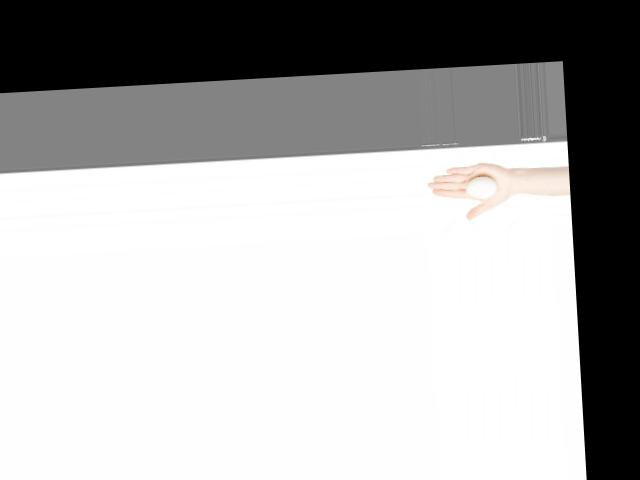egg: (465, 176, 496, 198)
